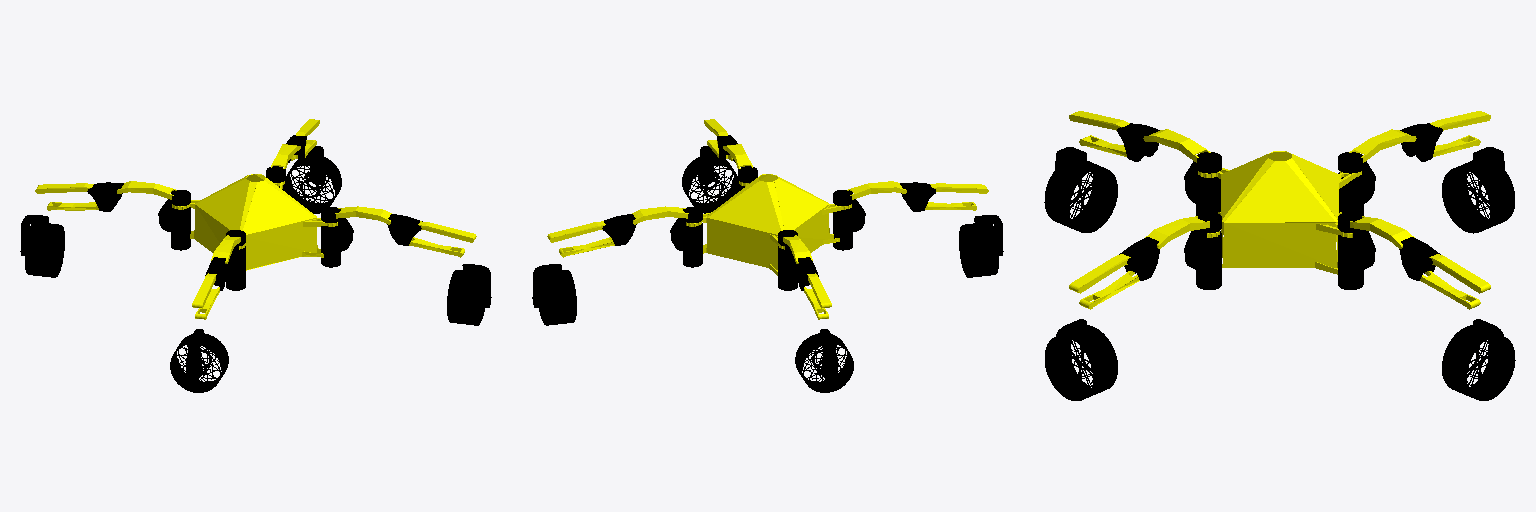
--- Render facts (derived) ---
3 views of the same robot in one strip: view 1: azimuth 30°, elevation 25°; view 2: azimuth 150°, elevation 25°; view 3: azimuth 270°, elevation 25° (orthographic).
Model Sherpa_tt with 45 links and 44 joints (32 revolute, 4 continuous, 8 fixed), rooted at body, posed all joints at 0.
Visible links, largest first — view 1: body, wheel_rear_left, wheel_front_left, wheel_front_right, wheel_rear_right, pan_rear_left, pan_front_right, pan_rear_right, knee_front_right, knee_rear_left, wheel_lower_rear_right, inner_leg_rear_left (+2 smaller); view 2: body, wheel_rear_right, wheel_front_right, wheel_front_left, wheel_rear_left, pan_front_left, pan_rear_right, pan_rear_left, knee_front_left, knee_rear_right, wheel_lower_rear_left, inner_leg_front_left (+2 smaller); view 3: body, wheel_rear_left, wheel_rear_right, wheel_front_right, wheel_front_left, pan_front_right, pan_front_left, pan_rear_right, pan_rear_left, wheel_lower_front_left, wheel_lower_front_right, knee_front_left (+13 smaller).
Boxes of the visible links, box(x1,y1,x2,y2) form: body: box(172, 174, 337, 270); wheel_rear_left: box(25, 223, 64, 277); wheel_front_left: box(286, 155, 341, 213); wheel_front_right: box(447, 270, 484, 325); wheel_rear_right: box(170, 333, 228, 392); pan_rear_left: box(158, 190, 190, 250); pan_front_right: box(321, 207, 353, 267); pan_rear_right: box(226, 230, 245, 290); knee_front_right: box(387, 214, 422, 245); knee_rear_left: box(87, 182, 123, 211); wheel_lower_rear_right: box(186, 329, 203, 379); inner_leg_rear_left: box(117, 181, 176, 199); body: box(686, 174, 851, 275); wheel_rear_right: box(959, 223, 998, 277); wheel_front_right: box(682, 155, 737, 213); wheel_front_left: box(539, 270, 576, 325); wheel_rear_left: box(795, 333, 853, 392); pan_front_left: box(670, 207, 702, 267); pan_rear_right: box(833, 190, 865, 250); pan_rear_left: box(778, 230, 797, 290); knee_front_left: box(602, 214, 636, 245); knee_rear_right: box(900, 182, 935, 211); wheel_lower_rear_left: box(820, 329, 837, 379); inner_leg_front_left: box(632, 206, 688, 224); body: box(1198, 151, 1361, 274); wheel_rear_left: box(1442, 159, 1514, 233); wheel_rear_right: box(1044, 159, 1117, 232); wheel_front_right: box(1045, 325, 1117, 400); wheel_front_left: box(1442, 325, 1515, 400); pan_front_right: box(1184, 212, 1221, 289); pan_front_left: box(1338, 212, 1375, 289); pan_rear_right: box(1184, 152, 1221, 215); pan_rear_left: box(1338, 152, 1375, 215); wheel_lower_front_left: box(1473, 319, 1506, 381); wheel_lower_front_right: box(1053, 319, 1086, 381); knee_front_left: box(1399, 237, 1440, 280).
Size in the robot's own frame: 2.66 by 2.66 by 0.9636 metres.
Meshes: 10 distinct files referenced, 29 mesh visuals loaded (8 binary STL); not drawn: 8 (reference not matched to a file when rendering).

robot.urdf — Sherpa_tt:
<?xml version="1.0"?>
<robot name="Sherpa_tt">
    <material name="Yellow">
        <color rgba="1.0 1.0 0.0 1.0"/>
    </material>
    <material name="Gray">
        <color rgba="0.2 0.2 0.2 1.0"/>
    </material>
    <material name="Black">
        <color rgba="0 0 0 1.0"/>
    </material>

    <link name="body">        
        <inertial>
            <origin xyz="0 0 0" rpy="0 0 0"/>
            <mass value="14.1"/>
            <inertia ixx="0"  ixy="0"  ixz="0" iyy="0" iyz="0" izz="0" />
        </inertial>
        <visual>
            <material name="Yellow" />
            <origin xyz="0 0 0" rpy="0 0 0"/>
            <geometry>
                <mesh filename="./meshes/body.stl" scale="0.001 0.001 0.001"/>
            </geometry>
        </visual>
    </link>


    <!-- Front left Leg -->
    <link name="pan_front_left">
        <inertial>
            <origin xyz="0.05 0 0" rpy="0 0 0"/>
            <mass value="3.0"/> <!--0.8for the structure+ pan-actuator and IL actuator -->
            <inertia ixx="0"  ixy="0"  ixz="0" iyy="0" iyz="0" izz="0" />
        </inertial>
        <visual>
            <material name="Black" />
            <origin xyz="0 0 0" rpy="0 0 0"/>
            <geometry>
                <mesh filename="./meshes/steeringPivot.stl" scale="0.001 0.001 0.001" />
            </geometry>
        </visual>
    </link>
    <link name="inner_strut_front_left">
        <inertial>
            <origin xyz="0.2 0 0" rpy="0 0 0"/>
            <mass value="1.0"/>
            <inertia ixx="0"  ixy="0"  ixz="0" iyy="0" iyz="0" izz="0" />
        </inertial>
        <visual>
            <material name="Yellow" />
            <origin xyz="0 0 0" rpy="0 0 0"/>
            <geometry>
                <mesh filename="./meshes/innerStrut.stl" scale="0.001 0.001 0.001" />
            </geometry>
        </visual>
    </link>
    <link name="knee_front_left">
        <inertial>
            <origin xyz="0.1 0.05 0" rpy="0 0 0"/>
            <mass value="3.0"/>
            <inertia ixx="0"  ixy="0"  ixz="0" iyy="0" iyz="0" izz="0" />
        </inertial>
        <visual>
            <material name="Black" />
            <origin xyz="0 0 0" rpy="0 0 0"/>
            <geometry>
                <mesh filename="./meshes/knee.stl" scale="0.001 0.001 0.001" />
            </geometry>
        </visual>
    </link>
    <link name="outer_strut_front_left">
        <inertial>
            <origin xyz="0.2 0 0" rpy="0 0 0"/>
            <mass value="2.0"/>
            <inertia ixx="0"  ixy="0"  ixz="0" iyy="0" iyz="0" izz="0" />
        </inertial>
        <visual>
            <material name="Yellow" />
            <origin xyz="0 0 0" rpy="0 0 0"/>
            <geometry>
                <mesh filename="./meshes/outerStrut.stl" scale="0.001 0.001 0.001" />
            </geometry>
        </visual>
    </link>
    <link name="wheel_upper_front_left">
        <inertial>
            <origin xyz="0 0 0" rpy="0 0 0"/>
            <mass value="2.0"/>
            <inertia ixx="0"  ixy="0"  ixz="0" iyy="0" iyz="0" izz="0" />
        </inertial>
        <visual>
            <material name="Black" />
            <origin xyz="0 0 0" rpy="0 0 0"/>
            <geometry>
                <mesh filename="./meshes/steeringUnit.stl" scale="0.001 0.001 0.001" />
            </geometry>
        </visual>
    </link>
    <link name="wheel_lower_front_left">
        <inertial>
            <origin xyz="0 0 0" rpy="0 0 0"/>
            <mass value="5.0"/>
            <inertia ixx="0"  ixy="0"  ixz="0" iyy="0" iyz="0" izz="0" />
        </inertial>
        <visual>
            <material name="Black" />
            <origin xyz="0 0 0" rpy="0 0 0"/>
            <geometry>
                <mesh filename="./meshes/driveUnit.stl" scale="0.001 0.001 0.001" />
            </geometry>
        </visual>
    </link>
    <link name="wheel_front_left">
        <visual>
            <material name="Black" />
            <origin xyz="0 0 0" rpy="0 0 0"/>
            <geometry>
                <mesh filename="./meshes/wheel.stl" scale="0.001 0.001 0.001" />
            </geometry>
        </visual>
    </link>
    <link name="inner_leg_front_left">
        <inertial>
            <origin xyz="0.2 0 0" rpy="0 0 0"/>
            <mass value="4.0"/>
            <inertia ixx="0"  ixy="0"  ixz="0" iyy="0" iyz="0" izz="0" />
        </inertial>
        <visual>
            <material name="Yellow" />
            <origin xyz="0 0 0" rpy="0 0 0"/>
            <geometry>
                <mesh filename="./meshes/innerLegInt.stl" scale="0.001 0.001 0.001" />
            </geometry>
        </visual>
    </link>
    <link name="outer_leg_front_left">
        <inertial>
            <origin xyz="0.2 0 0" rpy="0 0 0"/>
            <mass value="4.0"/>
            <inertia ixx="0"  ixy="0"  ixz="0" iyy="0" iyz="0" izz="0" />
        </inertial>
        <visual>
            <material name="Yellow" />
            <origin xyz="0 0 0" rpy="0 0 0"/>
            <geometry>
                <mesh filename="./meshes/outerLegInt.stl" scale="0.001 0.001 0.001" />
            </geometry>
        </visual>
    </link>
    <link name="wheel_end_point_link_front_left" />
    <link name="force_torque_sensor_link_front_left" />



    <joint name="alpha_front_left" type="revolute">
        <parent link="body"/>
        <child link="pan_front_left"/>
        <origin xyz="0.4 0.4 0" rpy="0 0 0.7854" />
        <axis xyz="0 0 1" />
        <limit lower="-1.5707963268" upper="2.181661565" effort="1" velocity="0.0872664626"/>
    </joint>
    <joint name="beta_front_left" type="revolute">
        <parent link="pan_front_left"/>
        <child link="inner_strut_front_left"/>
        <origin xyz="0.1375 0 0" rpy="-1.570796 0 0" />
        <axis xyz="0 0 1" />
        <limit lower="-0.872664626" upper="0.2967059728" effort="1" velocity="0.034906585"/>
    </joint>
    <joint name="beta1_fake_front_left" type="revolute">
        <parent link="inner_strut_front_left"/>
        <child link="knee_front_left"/>
        <origin xyz="0.4 0 0" rpy="0 0 0" />
        <axis xyz="0 0 1" />
        <limit lower="-0.297" upper="1.038" effort="1" velocity="0.034906585"/>
        <mimic joint="beta_front_left" multiplier="-1" offset="0"/>
    </joint>
    <joint name="beta2_fake_front_left" type="revolute">
        <parent link="pan_front_left"/>
        <child link="inner_leg_front_left"/>
        <origin xyz="0.05 0 0.15155" rpy="-1.570796 0 0" />
        <axis xyz="0 0 1" />
        <limit lower="-1.038" upper="0.297" effort="1" velocity="0.034906585"/>
        <mimic joint="beta_front_left" multiplier="1" offset="0"/>
    </joint>
    <joint name="gamma_front_left" type="revolute">
        <parent link="knee_front_left"/>
        <child link="outer_strut_front_left"/>
        <origin xyz="0.045 0 0" rpy="0 0 0.130550" />
        <axis xyz="0 0 1" />
        <limit lower="-0.0174532925" upper="1.308996939" effort="1" velocity="0.034906585"/>
    </joint>
    <joint name="gamma1_fake_front_left" type="revolute">
        <parent link="outer_strut_front_left"/>
        <child link="wheel_upper_front_left"/>
        <origin xyz="0.4 0 0" rpy="0 0 -0.130550" />
        <axis xyz="0 0 1" />
        <limit lower="-1.286" upper="0.087" effort="1" velocity="0.034906585"/>
        <mimic joint="gamma_front_left" multiplier="-1" offset="0"/>
    </joint>
    <joint name="gamma2_fake_front_left" type="revolute">
        <parent link="knee_front_left"/>
        <child link="outer_leg_front_left"/>
        <origin xyz="0.13 -0.127 0" rpy="0 0 0.130550" />
        <axis xyz="0 0 1" />
        <limit lower="-0.087" upper="1.286" effort="1" velocity="0.034906585"/>
        <mimic joint="gamma_front_left" multiplier="1" offset="0"/>
    </joint>
    <joint name="phi_front_left" type="revolute">
        <parent link="wheel_upper_front_left"/>
        <child link="wheel_lower_front_left"/>
        <origin xyz="0.04302 0.355 0" rpy="1.570796 0 0" />
        <axis xyz="0 0 1" />
        <limit lower="-2.8797932658" upper="2.8797932658" effort="1" velocity="0.436332313"/>
    </joint>
    <joint name="omega_front_left" type="continuous">
        <parent link="wheel_lower_front_left"/>
        <child link="wheel_front_left"/>
        <origin xyz="0 0 0" rpy="0 -1.570796 0" />
        <axis xyz="0 0 1" />
        <limit effort="1" velocity="0.78539816339"/>
    </joint>
    <joint name="wheel_end_point_front_left" type="fixed">
        <parent link="wheel_lower_front_left"/>
        <child link="wheel_end_point_link_front_left"/>
        <origin xyz="0 0 -0.2" rpy="0 0 0" />
        <axis xyz="0 0 1" />
    </joint>
    <joint name="force_torque_sensor_front_left" type="fixed">
        <parent link="wheel_lower_front_left"/>
        <child link="force_torque_sensor_link_front_left"/>
        <origin xyz="0.1 0 0" rpy="0 0 0" />
        <axis xyz="0 0 1" />
    </joint>



    <!-- Front right Leg -->
    <link name="pan_front_right">
         <inertial>
            <origin xyz="0.05 0 0" rpy="0 0 0"/>
            <mass value="3.0"/> <!--0.8for the structure+ pan-actuator and IL actuator -->
            <inertia ixx="0"  ixy="0"  ixz="0" iyy="0" iyz="0" izz="0" />
        </inertial>
        <visual>
            <material name="Black" />
            <origin xyz="0 0 0" rpy="0 0 0"/>
            <geometry>
                <mesh filename="./meshes/steeringPivot.stl" scale="0.001 0.001 0.001" />
            </geometry>
        </visual>
    </link>
    <link name="inner_strut_front_right">
        <inertial>
            <origin xyz="0.2 0 0" rpy="0 0 0"/>
            <mass value="1.0"/>
            <inertia ixx="0"  ixy="0"  ixz="0" iyy="0" iyz="0" izz="0" />
        </inertial>
        <visual>
            <material name="Yellow" />
            <origin xyz="0 0 0" rpy="0 0 0"/>
            <geometry>
                <mesh filename="./meshes/innerStrut.stl" scale="0.001 0.001 0.001" />
            </geometry>
        </visual>
    </link>
    <link name="knee_front_right">
        <inertial>
            <origin xyz="0.1 0.05 0" rpy="0 0 0"/>
            <mass value="3.0"/>
            <inertia ixx="0"  ixy="0"  ixz="0" iyy="0" iyz="0" izz="0" />
        </inertial>
        <visual>
            <material name="Black" />
            <origin xyz="0 0 0" rpy="0 0 0"/>
            <geometry>
                <mesh filename="./meshes/knee.stl" scale="0.001 0.001 0.001" />
            </geometry>
        </visual>
    </link>
    <link name="outer_strut_front_right">
        <inertial>
            <origin xyz="0.2 0 0" rpy="0 0 0"/>
            <mass value="2.0"/>
            <inertia ixx="0"  ixy="0"  ixz="0" iyy="0" iyz="0" izz="0" />
        </inertial>
        <visual>
            <material name="Yellow" />
            <origin xyz="0 0 0" rpy="0 0 0"/>
            <geometry>
                <mesh filename="./meshes/outerStrut.stl" scale="0.001 0.001 0.001" />
            </geometry>
        </visual>
    </link>
    <link name="wheel_upper_front_right">
        <inertial>
            <origin xyz="0 0 0" rpy="0 0 0"/>
            <mass value="2.0"/>
            <inertia ixx="0"  ixy="0"  ixz="0" iyy="0" iyz="0" izz="0" />
        </inertial>
        <visual>
            <material name="Black" />
            <origin xyz="0 0 0" rpy="0 0 0"/>
            <geometry>
                <mesh filename="./meshes/steeringUnit.stl" scale="0.001 0.001 0.001" />
            </geometry>
        </visual>
    </link>
    <link name="wheel_lower_front_right">
        <inertial>
            <origin xyz="0 0 0" rpy="0 0 0"/>
            <mass value="5.0"/>
            <inertia ixx="0"  ixy="0"  ixz="0" iyy="0" iyz="0" izz="0" />
        </inertial>
        <visual>
            <material name="Black" />
            <origin xyz="0 0 0" rpy="0 0 0"/>
            <geometry>
                <mesh filename="./meshes/driveUnit.stl" scale="0.001 0.001 0.001" />
            </geometry>
        </visual>
    </link>
    <link name="wheel_front_right">
        <visual>
            <material name="Black" />
            <origin xyz="0 0 0" rpy="0 0 0"/>
            <geometry>
                <mesh filename="./meshes/wheel.stl" scale="0.001 0.001 0.001" />
            </geometry>
        </visual>
    </link>
    <link name="inner_leg_front_right">
         <inertial>
            <origin xyz="0.2 0 0" rpy="0 0 0"/>
            <mass value="4.0"/>
            <inertia ixx="0"  ixy="0"  ixz="0" iyy="0" iyz="0" izz="0" />
        </inertial>
        <visual>
            <material name="Yellow" />
            <origin xyz="0 0 0" rpy="0 0 0"/>
            <geometry>
                <mesh filename="./meshes/innerLegInt.stl" scale="0.001 0.001 0.001" />
            </geometry>
        </visual>
    </link>
    <link name="outer_leg_front_right">
        <inertial>
            <origin xyz="0.2 0 0" rpy="0 0 0"/>
            <mass value="4.0"/>
            <inertia ixx="0"  ixy="0"  ixz="0" iyy="0" iyz="0" izz="0" />
        </inertial>
        <visual>
            <material name="Yellow" />
            <origin xyz="0 0 0" rpy="0 0 0"/>
            <geometry>
                <mesh filename="./meshes/outerLegInt.stl" scale="0.001 0.001 0.001" />
            </geometry>
        </visual>
    </link>
    <link name="wheel_end_point_link_front_right" />
    <link name="force_torque_sensor_link_front_right" />



    <joint name="alpha_front_right" type="revolute">
        <parent link="body"/>
        <child link="pan_front_right"/>
        <origin xyz="0.4 -0.4 0" rpy="0 0 -0.7854" />
        <axis xyz="0 0 1" />
	<limit lower="-1.5707963268" upper="2.181661565" effort="1" velocity="0.0872664626"/>
    </joint>
    <joint name="beta_front_right" type="revolute">
        <parent link="pan_front_right"/>
        <child link="inner_strut_front_right"/>
        <origin xyz="0.1375 0 0" rpy="-1.570796 0 0" />
        <axis xyz="0 0 1" />
        <limit lower="-0.872664626" upper="0.2967059728" effort="1" velocity="0.034906585"/>
    </joint>
    <joint name="beta1_fake_front_right" type="revolute">
        <parent link="inner_strut_front_right"/>
        <child link="knee_front_right"/>
        <origin xyz="0.4 0 0" rpy="0 0 0" />
        <axis xyz="0 0 1" />
        <limit lower="-0.297" upper="1.038" effort="1" velocity="0.034906585"/>
        <mimic joint="beta_front_right" multiplier="-1" offset="0"/>
    </joint>
    <joint name="beta2_fake_front_right" type="revolute">
        <parent link="pan_front_right"/>
        <child link="inner_leg_front_right"/>
        <origin xyz="0.05 0 0.15155" rpy="-1.570796 0 0" />
        <axis xyz="0 0 1" />
        <limit lower="-1.038" upper="0.297" effort="1" velocity="0.034906585"/>
        <mimic joint="beta_front_right" multiplier="1" offset="0"/>
    </joint>
    <joint name="gamma_front_right" type="revolute">
        <parent link="knee_front_right"/>
        <child link="outer_strut_front_right"/>
        <origin xyz="0.045 0 0" rpy="0 0 0.130550" />
        <axis xyz="0 0 1" />
        <limit lower="-0.0174532925" upper="1.308996939" effort="1" velocity="0.034906585"/>
    </joint>
    <joint name="gamma1_fake_front_right" type="revolute">
        <parent link="outer_strut_front_right"/>
        <child link="wheel_upper_front_right"/>
        <origin xyz="0.4 0 0" rpy="0 0 -0.130550" />
        <axis xyz="0 0 1" />
        <limit lower="-1.286" upper="0.087" effort="1" velocity="0.034906585"/>
        <mimic joint="gamma_front_right" multiplier="-1" offset="0"/>
    </joint>
    <joint name="gamma2_fake_front_right" type="revolute">
        <parent link="knee_front_right"/>
        <child link="outer_leg_front_right"/>
        <origin xyz="0.13 -0.127 0" rpy="0 0 0.130550" />
        <axis xyz="0 0 1" />
        <limit lower="-0.087" upper="1.286" effort="1" velocity="0.034906585"/>
        <mimic joint="gamma_front_right" multiplier="1" offset="0"/>
    </joint>
    <joint name="phi_front_right" type="revolute">
        <parent link="wheel_upper_front_right"/>
        <child link="wheel_lower_front_right"/>
        <origin xyz="0.04302 0.355 0" rpy="1.570796 0 0" />
        <axis xyz="0 0 1" />
        <limit lower="-2.8797932658" upper="2.8797932658" effort="1" velocity="0.436332313"/>
    </joint>
    <joint name="omega_front_right" type="continuous">
        <parent link="wheel_lower_front_right"/>
        <child link="wheel_front_right"/>
        <origin xyz="0 0 0" rpy="0 -1.570796 0" />
        <axis xyz="0 0 1" />
        <limit effort="1" velocity="0.78539816339"/>
    </joint>
    <joint name="wheel_end_point_front_right" type="fixed">
        <parent link="wheel_lower_front_right"/>
        <child link="wheel_end_point_link_front_right"/>
        <origin xyz="0 0 -0.2" rpy="0 0 0" />
        <axis xyz="0 0 1" />
    </joint>
    <joint name="force_torque_sensor_front_right" type="fixed">
        <parent link="wheel_lower_front_right"/>
        <child link="force_torque_sensor_link_front_right"/>
        <origin xyz="0.1 0 0" rpy="0 0 0" />
        <axis xyz="0 0 1" />
    </joint>



    <!-- Rear left Leg -->
    <link name="pan_rear_left">
         <inertial>
            <origin xyz="0.05 0 0" rpy="0 0 0"/>
            <mass value="3.0"/> <!--0.8for the structure+ pan-actuator and IL actuator -->
            <inertia ixx="0"  ixy="0"  ixz="0" iyy="0" iyz="0" izz="0" />
        </inertial>
        <visual>
            <material name="Black" />
            <origin xyz="0 0 0" rpy="0 0 0"/>
            <geometry>
                <mesh filename="./meshes/steeringPivot.stl" scale="0.001 0.001 0.001" />
            </geometry>
        </visual>
    </link>
    <link name="inner_strut_rear_left">
        <inertial>
            <origin xyz="0.2 0 0" rpy="0 0 0"/>
            <mass value="1.0"/>
            <inertia ixx="0"  ixy="0"  ixz="0" iyy="0" iyz="0" izz="0" />
        </inertial>
        <visual>
            <material name="Yellow" />
            <origin xyz="0 0 0" rpy="0 0 0"/>
            <geometry>
                <mesh filename="./meshes/innerStrut.stl" scale="0.001 0.001 0.001" />
            </geometry>
        </visual>
    </link>
    <link name="knee_rear_left">
        <inertial>
            <origin xyz="0.1 0.05 0" rpy="0 0 0"/>
            <mass value="3.0"/>
            <inertia ixx="0"  ixy="0"  ixz="0" iyy="0" iyz="0" izz="0" />
        </inertial>
        <visual>
            <material name="Black" />
            <origin xyz="0 0 0" rpy="0 0 0"/>
            <geometry>
                <mesh filename="./meshes/knee.stl" scale="0.001 0.001 0.001" />
            </geometry>
        </visual>
    </link>
    <link name="outer_strut_rear_left">
        <inertial>
            <origin xyz="0.2 0 0" rpy="0 0 0"/>
            <mass value="2.0"/>
            <inertia ixx="0"  ixy="0"  ixz="0" iyy="0" iyz="0" izz="0" />
        </inertial>
        <visual>
            <material name="Yellow" />
            <origin xyz="0 0 0" rpy="0 0 0"/>
            <geometry>
                <mesh filename="./meshes/outerStrut.stl" scale="0.001 0.001 0.001" />
            </geometry>
        </visual>
    </link>
    <link name="wheel_upper_rear_left">
        <inertial>
            <origin xyz="0 0 0" rpy="0 0 0"/>
            <mass value="2.0"/>
            <inertia ixx="0"  ixy="0"  ixz="0" iyy="0" iyz="0" izz="0" />
        </inertial>
        <visual>
            <material name="Black" />
            <origin xyz="0 0 0" rpy="0 0 0"/>
            <geometry>
                <mesh filename="./meshes/steeringUnit.stl" scale="0.001 0.001 0.001" />
            </geometry>
        </visual>
    </link>
    <link name="wheel_lower_rear_left">
        <inertial>
            <origin xyz="0 0 0" rpy="0 0 0"/>
            <mass value="5.0"/>
            <inertia ixx="0"  ixy="0"  ixz="0" iyy="0" iyz="0" izz="0" />
        </inertial>
        <visual>
            <material name="Black" />
            <origin xyz="0 0 0" rpy="0 0 0"/>
            <geometry>
                <mesh filename="./meshes/driveUnit.stl" scale="0.001 0.001 0.001" />
            </geometry>
        </visual>
    </link>
    <link name="wheel_rear_left">
        <visual>
            <material name="Black" />
            <origin xyz="0 0 0" rpy="0 0 0"/>
            <geometry>
                <mesh filename="./meshes/wheel.stl" scale="0.001 0.001 0.001" />
            </geometry>
        </visual>
    </link>
    <link name="inner_leg_rear_left">
         <inertial>
            <origin xyz="0.2 0 0" rpy="0 0 0"/>
            <mass value="4.0"/>
            <inertia ixx="0"  ixy="0"  ixz="0" iyy="0" iyz="0" izz="0" />
        </inertial>
        <visual>
            <material name="Yellow" />
            <origin xyz="0 0 0" rpy="0 0 0"/>
            <geometry>
                <mesh filename="./meshes/innerLegInt.stl" scale="0.001 0.001 0.001" />
            </geometry>
        </visual>
    </link>
    <link name="outer_leg_rear_left">
        <inertial>
            <origin xyz="0.2 0 0" rpy="0 0 0"/>
            <mass value="4.0"/>
            <inertia ixx="0"  ixy="0"  ixz="0" iyy="0" iyz="0" izz="0" />
        </inertial>
        <visual>
            <material name="Yellow" />
            <origin xyz="0 0 0" rpy="0 0 0"/>
            <geometry>
                <mesh filename="./meshes/outerLegInt.stl" scale="0.001 0.001 0.001" />
            </geometry>
        </visual>
    </link>
    <link name="wheel_end_point_link_rear_left" />
    <link name="force_torque_sensor_link_rear_left" />



    <joint name="alpha_rear_left" type="revolute">
        <parent link="body"/>
        <child link="pan_rear_left"/>
        <origin xyz="-0.4 0.4 0" rpy="0 0 2.356194" />
        <axis xyz="0 0 1" />
        <limit lower="-1.5707963268" upper="2.181661565" effort="1" velocity="0.0872664626"/>
    </joint>
    <joint name="beta_rear_left" type="revolute">
        <parent link="pan_rear_left"/>
        <child link="inner_strut_rear_left"/>
        <origin xyz="0.1375 0 0" rpy="-1.570796 0 0" />
        <axis xyz="0 0 1" />
        <limit lower="-0.872664626" upper="0.2967059728" effort="1" velocity="0.034906585"/>
    </joint>
    <joint name="beta1_fake_rear_left" type="revolute">
        <parent link="inner_strut_rear_left"/>
        <child link="knee_rear_left"/>
        <origin xyz="0.4 0 0" rpy="0 0 0" />
        <axis xyz="0 0 1" />
        <limit lower="-0.297" upper="1.038" effort="1" velocity="0.034906585"/>
        <mimic joint="beta_rear_left" multiplier="-1" offset="0"/>
    </joint>
    <joint name="beta2_fake_rear_left" type="revolute">
        <parent link="pan_rear_left"/>
        <child link="inner_leg_rear_left"/>
        <origin xyz="0.05 0 0.15155" rpy="-1.570796 0 0" />
        <axis xyz="0 0 1" />
        <limit lower="-1.038" upper="0.297" effort="1" velocity="0.034906585"/>
        <mimic joint="beta_rear_left" multiplier="1" offset="0"/>
    </joint>
    <joint name="gamma_rear_left" type="revolute">
        <parent link="knee_rear_left"/>
        <child link="outer_strut_rear_left"/>
        <origin xyz="0.045 0 0" rpy="0 0 0.130550" />
        <axis xyz="0 0 1" />
        <limit lower="-0.0174532925" upper="1.308996939" effort="1" velocity="0.034906585"/>
    </joint>
    <joint name="gamma1_fake_rear_left" type="revolute">
        <parent link="outer_strut_rear_left"/>
        <child link="wheel_upper_rear_left"/>
        <origin xyz="0.4 0 0" rpy="0 0 -0.130550" />
        <axis xyz="0 0 1" />
        <limit lower="-1.286" upper="0.087" effort="1" velocity="0.034906585"/>
        <mimic joint="gamma_rear_left" multiplier="-1" offset="0"/>
    </joint>
    <joint name="gamma2_fake_rear_left" type="revolute">
        <parent link="knee_rear_left"/>
        <child link="outer_leg_rear_left"/>
        <origin xyz="0.13 -0.127 0" rpy="0 0 0.130550" />
        <axis xyz="0 0 1" />
        <limit lower="-0.087" upper="1.286" effort="1" velocity="0.034906585"/>
        <mimic joint="gamma_rear_left" multiplier="1" offset="0"/>
    </joint>
    <joint name="phi_rear_left" type="revolute">
        <parent link="wheel_upper_rear_left"/>
        <child link="wheel_lower_rear_left"/>
        <origin xyz="0.04302 0.355 0" rpy="1.570796 0 0" />
        <axis xyz="0 0 1" />
        <limit lower="-2.8797932658" upper="2.8797932658" effort="1" velocity="0.436332313"/>
    </joint>
    <joint name="omega_rear_left" type="continuous">
        <parent link="wheel_lower_rear_left"/>
        <child link="wheel_rear_left"/>
        <origin xyz="0 0 0" rpy="0 -1.570796 0" />
        <axis xyz="0 0 1" />
        <limit effort="1" velocity="0.78539816339"/>
    </joint>
    <joint name="wheel_end_point_rear_left" type="fixed">
        <parent link="wheel_lower_rear_left"/>
        <child link="wheel_end_point_link_rear_left"/>
        <origin xyz="0 0 -0.2" rpy="0 0 0" />
        <axis xyz="0 0 1" />
    </joint>
    <joint name="force_torque_sensor_rear_left" type="fixed">
        <parent link="wheel_lower_rear_left"/>
        <child link="force_torque_sensor_link_rear_left"/>
        <origin xyz="0.1 0 0" rpy="0 0 0" />
        <axis xyz="0 0 1" />
    </joint>



    <!-- Rear right Leg -->
    <link name="pan_rear_right">
         <inertial>
            <origin xyz="0.05 0 0" rpy="0 0 0"/>
            <mass value="3.0"/> <!--0.8for the structure+ pan-actuator and IL actuator -->
            <inertia ixx="0"  ixy="0"  ixz="0" iyy="0" iyz="0" izz="0" />
        </inertial>
        <visual>
            <material name="Black" />
            <origin xyz="0 0 0" rpy="0 0 0"/>
            <geometry>
                <mesh filename="./meshes/steeringPivot.stl" scale="0.001 0.001 0.001" />
            </geometry>
        </visual>
    </link>
    <link name="inner_strut_rear_right">
        <inertial>
            <origin xyz="0.2 0 0" rpy="0 0 0"/>
            <mass value="1.0"/>
            <inertia ixx="0"  ixy="0"  ixz="0" iyy="0" iyz="0" izz="0" />
        </inertial>
        <visual>
            <material name="Yellow" />
            <origin xyz="0 0 0" rpy="0 0 0"/>
            <geometry>
                <mesh filename="./meshes/innerStrut.stl" scale="0.001 0.001 0.001" />
            </geometry>
        </visual>
    </link>
    <link name="knee_rear_right">
        <inertial>
            <origin xyz="0.1 0.05 0" rpy="0 0 0"/>
            <mass value="3.0"/>
            <inertia ixx="0"  ixy="0"  ixz="0" iyy="0" iyz="0" izz="0" />
        </inertial>
        <visual>
            <material name="Black" />
            <origin xyz="0 0 0" rpy="0 0 0"/>
            <geometry>
                <mesh filename="./meshes/knee.stl" scale="0.001 0.001 0.001" />
            </geometry>
        </visual>
    </link>
    <link name="outer_strut_rear_right">
        <inertial>
            <origin xyz="0.2 0 0" rpy="0 0 0"/>
            <mass value="2.0"/>
            <inertia ixx="0"  ixy="0"  ixz="0" iyy="0" iyz="0" izz="0" />
        </inertial>
        <visual>
            <material name="Yellow" />
            <origin xyz="0 0 0" rpy="0 0 0"/>
            <geometry>
                <mesh filename="./meshes/outerStrut.stl" scale="0.001 0.001 0.001" />
            </geometry>
        </visual>
    </link>
    <link name="wheel_upper_rear_right">
        <inertial>
            <origin xyz="0 0 0" rpy="0 0 0"/>
            <mass value="2.0"/>
            <inertia ixx="0"  ixy="0"  ixz="0" iyy="0" iyz="0" izz="0" />
        </inertial>
        <visual>
            <material name="Black" />
            <origin xyz="0 0 0" rpy="0 0 0"/>
            <geometry>
                <mesh filename="./meshes/steeringUnit.stl" scale="0.001 0.001 0.001" />
            </geometry>
        </visual>
    </link>
    <link name="wheel_lower_rear_right">
        <inertial>
            <origin xyz="0 0 0" rpy="0 0 0"/>
            <mass value="5.0"/>
            <inertia ixx="0"  ixy="0"  ixz="0" iyy="0" iyz="0" izz="0" />
        </inertial>
        <visual>
            <material name="Black" />
            <origin xyz="0 0 0" rpy="0 0 0"/>
            <geometry>
                <mesh filename="./meshes/driveUnit.stl" scale="0.001 0.001 0.001" />
            </geometry>
        </visual>
    </link>
    <link name="wheel_rear_right">
        <visual>
            <material name="Black" />
            <origin xyz="0 0 0" rpy="0 0 0"/>
            <geometry>
                <mesh filename="./meshes/wheel.stl" scale="0.001 0.001 0.001" />
            </geometry>
        </visual>
    </link>
    <link name="inner_leg_rear_right">
         <inertial>
            <origin xyz="0.2 0 0" rpy="0 0 0"/>
            <mass value="4.0"/>
            <inertia ixx="0"  ixy="0"  ixz="0" iyy="0" iyz="0" izz="0" />
        </inertial>
        <visual>
            <material name="Yellow" />
            <origin xyz="0 0 0" rpy="0 0 0"/>
            <geometry>
                <mesh filename="./meshes/innerLegInt.stl" scale="0.001 0.001 0.001" />
            </geometry>
        </visual>
    </link>
    <link name="outer_leg_rear_right">
        <inertial>
            <origin xyz="0.2 0 0" rpy="0 0 0"/>
            <mass value="4.0"/>
            <inertia ixx="0"  ixy="0"  ixz="0" iyy="0" iyz="0" izz="0" />
        </inertial>
        <visual>
            <material name="Yellow" />
            <origin xyz="0 0 0" rpy="0 0 0"/>
            <geometry>
                <mesh filename="./meshes/outerLegInt.stl" scale="0.001 0.001 0.001" />
            </geometry>
        </visual>
    </link>
    <link name="wheel_end_point_link_rear_right" />
    <link name="force_torque_sensor_link_rear_right" />



    <joint name="alpha_rear_right" type="revolute">
        <parent link="body"/>
        <child link="pan_rear_right"/>
        <origin xyz="-0.4 -0.4 0" rpy="0 0 -2.356194" />
        <axis xyz="0 0 1" />
        <limit lower="-1.5707963268" upper="2.181661565" effort="1" velocity="0.0872664626"/>
    </joint>
    <joint name="beta_rear_right" type="revolute">
        <parent link="pan_rear_right"/>
        <child link="inner_strut_rear_right"/>
        <origin xyz="0.1375 0 0" rpy="-1.570796 0 0" />
        <axis xyz="0 0 1" />
        <limit lower="-0.872664626" upper="0.2967059728" effort="1" velocity="0.034906585"/>
    </joint>
    <joint name="beta1_fake_rear_right" type="revolute">
        <parent link="inner_strut_rear_right"/>
        <child link="knee_rear_right"/>
        <origin xyz="0.4 0 0" rpy="0 0 0" />
        <axis xyz="0 0 1" />
        <limit lower="-0.297" upper="1.038" effort="1" velocity="0.034906585"/>
        <mimic joint="beta_rear_right" multiplier="-1" offset="0"/>
    </joint>
    <joint name="beta2_fake_rear_right" type="revolute">
        <parent link="pan_rear_right"/>
        <child link="inner_leg_rear_right"/>
        <origin xyz="0.05 0 0.15155" rpy="-1.570796 0 0" />
        <axis xyz="0 0 1" />
        <limit lower="-1.038" upper="0.297" effort="1" velocity="0.034906585"/>
        <mimic joint="beta_rear_right" multiplier="1" offset="0"/>
    </joint>
    <joint name="gamma_rear_right" type="revolute">
        <parent link="knee_rear_right"/>
        <child link="outer_strut_rear_right"/>
        <origin xyz="0.045 0 0" rpy="0 0 0.130550" />
        <axis xyz="0 0 1" />
        <limit lower="-0.0174532925" upper="1.308996939" effort="1" velocity="0.034906585"/>
    </joint>
    <joint name="gamma1_fake_rear_right" type="revolute">
        <parent link="outer_strut_rear_right"/>
        <child link="wheel_upper_rear_right"/>
        <origin xyz="0.4 0 0" rpy="0 0 -0.130550" />
        <axis xyz="0 0 1" />
        <limit lower="-1.286" upper="0.087" effort="1" velocity="0.034906585"/>
        <mimic joint="gamma_rear_right" multiplier="-1" offset="0"/>
    </joint>
    <joint name="gamma2_fake_rear_right" type="revolute">
        <parent link="knee_rear_right"/>
        <child link="outer_leg_rear_right"/>
        <origin xyz="0.13 -0.127 0" rpy="0 0 0.130550" />
        <axis xyz="0 0 1" />
        <limit lower="-0.087" upper="1.286" effort="1" velocity="0.034906585"/>
        <mimic joint="gamma_rear_right" multiplier="1" offset="0"/>
    </joint>
    <joint name="phi_rear_right" type="revolute">
        <parent link="wheel_upper_rear_right"/>
        <child link="wheel_lower_rear_right"/>
        <origin xyz="0.04302 0.355 0" rpy="1.570796 0 0" />
        <axis xyz="0 0 1" />
        <limit lower="-2.8797932658" upper="2.8797932658" effort="1" velocity="0.436332313"/>
    </joint>
    <joint name="omega_rear_right" type="continuous">
        <parent link="wheel_lower_rear_right"/>
        <child link="wheel_rear_right"/>
        <origin xyz="0 0 0" rpy="0 -1.570796 0" />
        <axis xyz="0 0 1" />
        <limit effort="1" velocity="0.78539816339"/>
    </joint>
    <joint name="wheel_end_point_rear_right" type="fixed">
        <parent link="wheel_lower_rear_right"/>
        <child link="wheel_end_point_link_rear_right"/>
        <origin xyz="0 0 -0.2" rpy="0 0 0" />
        <axis xyz="0 0 1" />
    </joint>
    <joint name="force_torque_sensor_rear_right" type="fixed">
        <parent link="wheel_lower_rear_right"/>
        <child link="force_torque_sensor_link_rear_right"/>
        <origin xyz="0.1 0 0" rpy="0 0 0" />
        <axis xyz="0 0 1" />
    </joint>



</robot>
